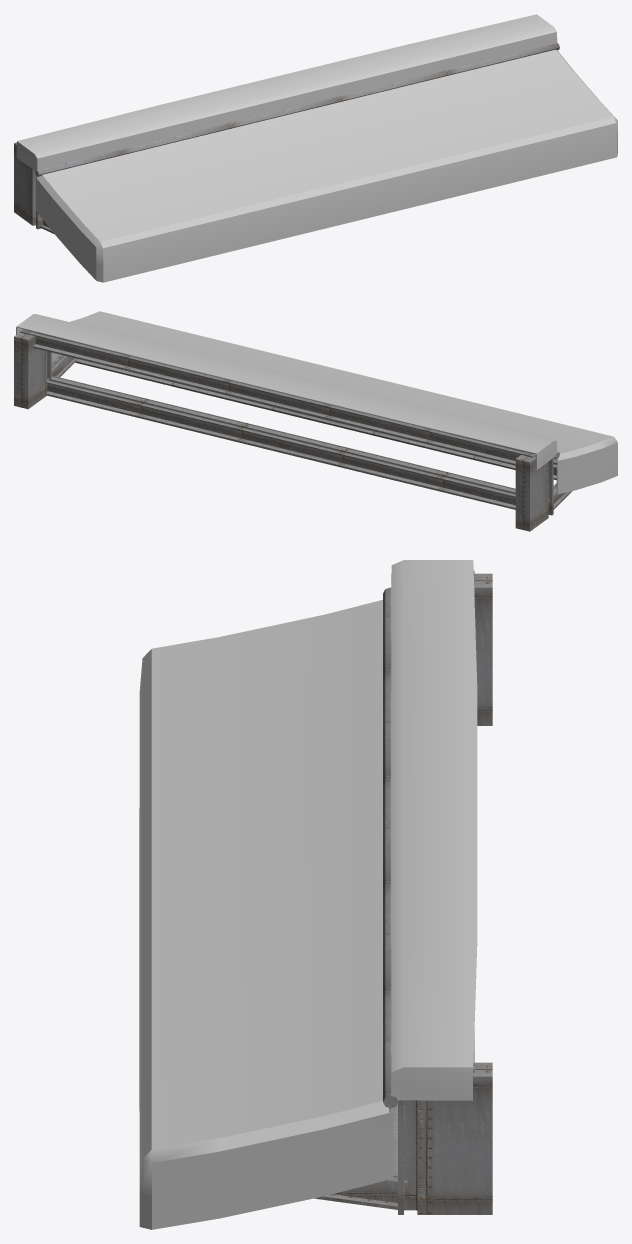
The model's file is CT_Awning_01.fbx.
3 views of the same model, one above another, from view 1: azimuth 30°, elevation 25°; view 2: azimuth 150°, elevation 25°; view 3: azimuth 270°, elevation 25° (orthographic). The views are drawn at different scales.
Visible parts, largest first — view 1: CT_Awning_01; view 2: CT_Awning_01; view 3: CT_Awning_01.
Boxes of the visible parts, x1,y1,x2,y2 form: CT_Awning_01: [14, 14, 617, 282]; CT_Awning_01: [14, 311, 617, 531]; CT_Awning_01: [139, 560, 492, 1229].
Bounding box in the file's own units: 514 × 76.76 × 151.
